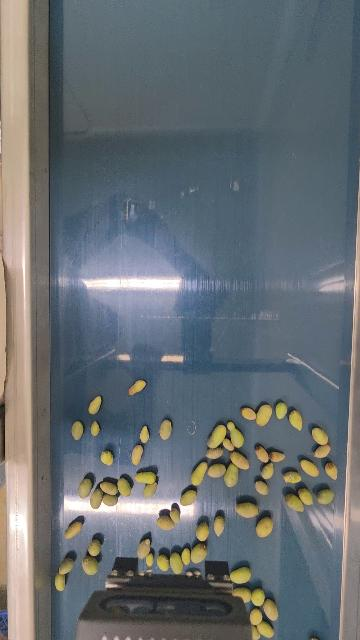Baby Potato: (226, 420, 246, 449), (206, 423, 227, 450), (234, 500, 260, 519), (255, 515, 275, 539), (230, 565, 253, 585), (262, 597, 280, 622), (191, 460, 208, 486), (229, 450, 250, 471), (299, 457, 320, 478), (284, 492, 305, 513), (255, 403, 273, 427), (223, 463, 240, 487), (64, 519, 83, 540), (231, 585, 253, 603), (288, 408, 304, 432), (191, 542, 208, 564), (256, 620, 275, 639), (316, 487, 335, 506), (169, 550, 184, 574), (311, 426, 329, 446), (297, 486, 314, 507), (81, 556, 98, 576), (282, 469, 303, 485), (78, 477, 93, 499), (254, 444, 271, 463), (212, 514, 226, 537), (250, 587, 266, 607), (207, 462, 227, 478), (195, 521, 210, 542), (159, 419, 173, 441), (135, 470, 157, 484), (128, 379, 146, 396), (181, 488, 197, 507), (99, 479, 118, 495), (116, 477, 131, 497), (324, 461, 339, 481), (89, 488, 103, 509), (137, 538, 151, 559), (58, 557, 74, 575), (260, 461, 276, 479), (130, 444, 143, 466), (312, 444, 331, 459), (71, 420, 85, 440), (88, 395, 102, 415), (254, 479, 270, 496), (157, 514, 174, 530), (249, 607, 264, 625), (156, 553, 170, 572), (240, 405, 256, 421), (275, 401, 288, 420), (269, 449, 286, 463), (143, 481, 157, 498), (88, 539, 101, 557), (206, 447, 224, 460), (100, 450, 114, 465), (139, 425, 150, 444), (180, 545, 191, 564), (55, 573, 66, 591), (250, 622, 261, 640), (102, 494, 118, 506), (89, 420, 100, 437), (170, 506, 181, 523), (222, 437, 234, 451), (145, 553, 154, 567)
